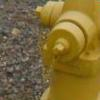Hydrant: (29, 0, 100, 100)
